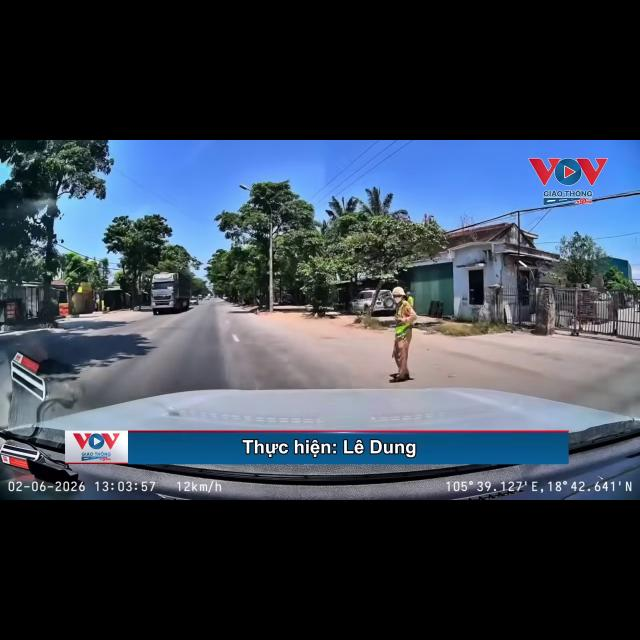car: (373, 290, 394, 311), (190, 297, 198, 304)
truck: (151, 273, 190, 314)
